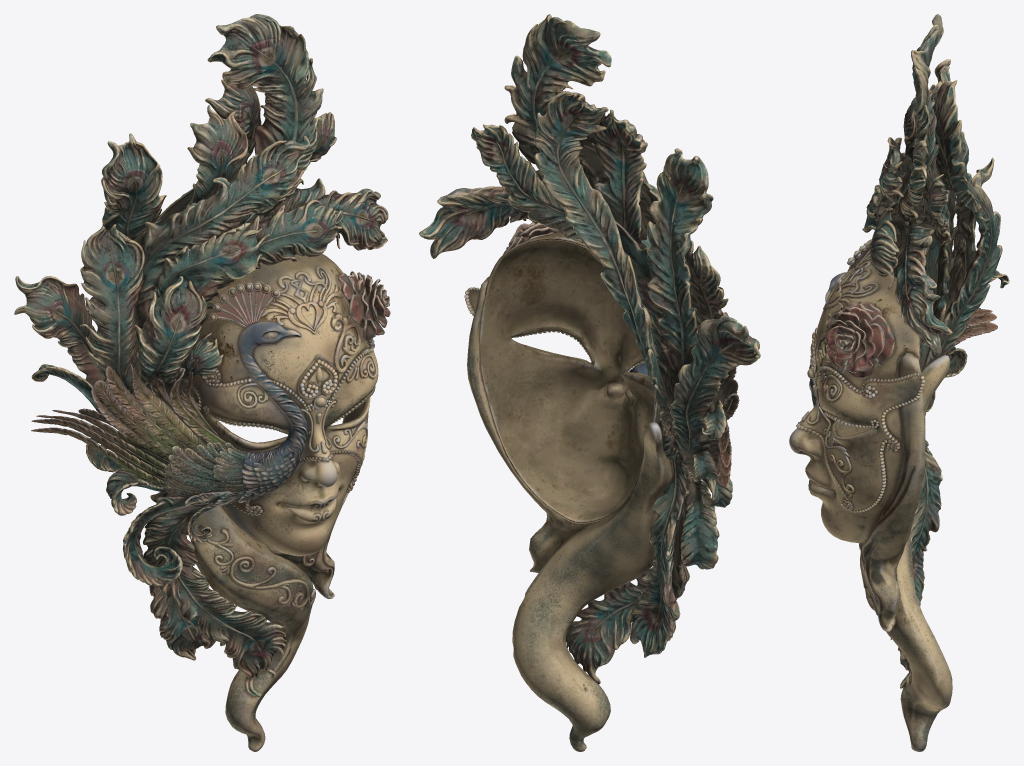
Rendered from venice_mask.gltf.
3 views of the same model, side by side, from view 1: azimuth 30°, elevation 25°; view 2: azimuth 150°, elevation 25°; view 3: azimuth 270°, elevation 25° (orthographic).
Visible parts, largest first — view 1: yumao3_low_lambert3_0, yumao3_low_lambert2_0, yumao3_low_lambert1_0, yumao3_low_lambert4_0, zhu_low_lambert5_0; view 2: yumao3_low_lambert1_0, yumao3_low_lambert4_0, yumao3_low_lambert3_0, yumao3_low_lambert2_0; view 3: yumao3_low_lambert1_0, yumao3_low_lambert4_0, yumao3_low_lambert2_0, yumao3_low_lambert3_0, zhu_low_lambert5_0.
Boxes of the visible parts, left/top/right/bottom form: yumao3_low_lambert3_0: left=14, top=133, right=286, bottom=697; yumao3_low_lambert2_0: left=31, top=266, right=390, bottom=610; yumao3_low_lambert1_0: left=187, top=254, right=378, bottom=751; yumao3_low_lambert4_0: left=133, top=14, right=388, bottom=370; zhu_low_lambert5_0: left=185, top=338, right=375, bottom=515; yumao3_low_lambert1_0: left=467, top=232, right=671, bottom=751; yumao3_low_lambert4_0: left=419, top=14, right=679, bottom=460; yumao3_low_lambert3_0: left=566, top=148, right=760, bottom=683; yumao3_low_lambert2_0: left=503, top=222, right=739, bottom=569; yumao3_low_lambert1_0: left=789, top=259, right=952, bottom=751; yumao3_low_lambert4_0: left=870, top=14, right=1002, bottom=371; yumao3_low_lambert2_0: left=801, top=239, right=1009, bottom=627; yumao3_low_lambert3_0: left=862, top=59, right=994, bottom=688; zhu_low_lambert5_0: left=796, top=332, right=925, bottom=512.
Size of the model in its own units: 0.0329 by 0.0648 by 0.0179.
5 materials, 5 textured.
